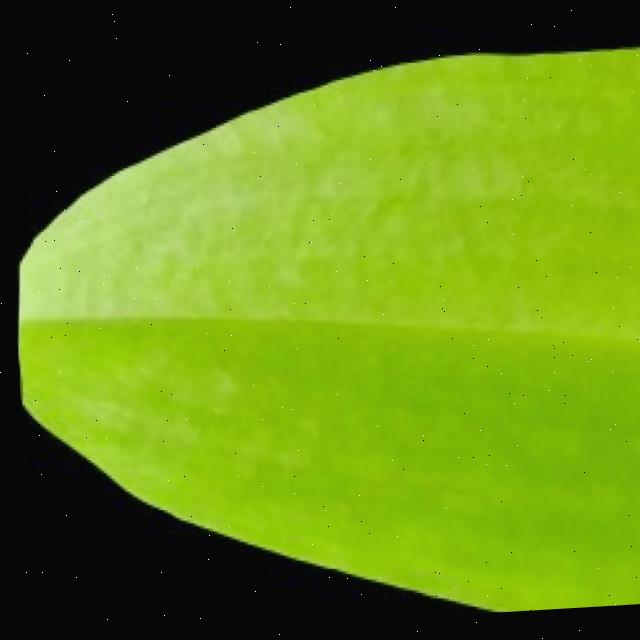mite: (24, 580, 640, 626)
spots: (13, 29, 640, 626)
